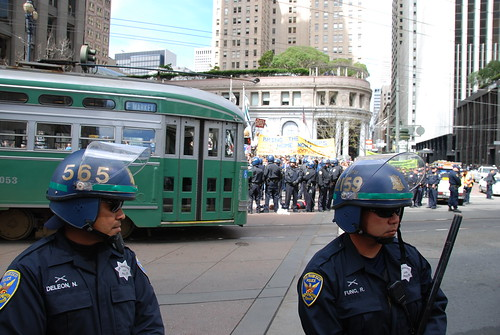building: (214, 2, 367, 160), (389, 1, 500, 150), (1, 1, 106, 66)
policeman: (16, 151, 169, 335), (307, 159, 456, 335)
train: (1, 61, 244, 237)
